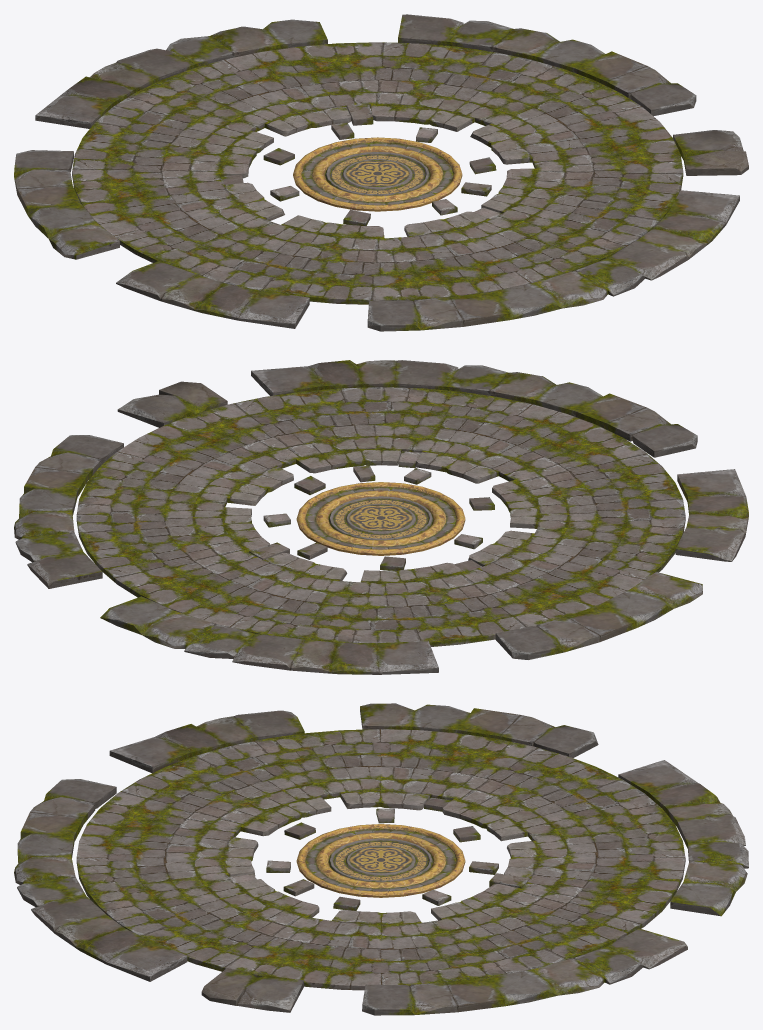
File: b_zx_bosstai01_01.FBX
3 renders of one model, top to bottom at view 1: azimuth 30°, elevation 25°; view 2: azimuth 150°, elevation 25°; view 3: azimuth 270°, elevation 25°, orthographic.
Parts seen in each view (by area): view 1: b_zx_bosstai01_01; view 2: b_zx_bosstai01_01; view 3: b_zx_bosstai01_01.
Part boxes in pixels (<box>): b_zx_bosstai01_01: <box>14,14,748,331</box>; b_zx_bosstai01_01: <box>14,360,748,674</box>; b_zx_bosstai01_01: <box>14,703,748,1015</box>.
Bounding box in the file's own units: 20.62 × 0.344 × 20.79.
